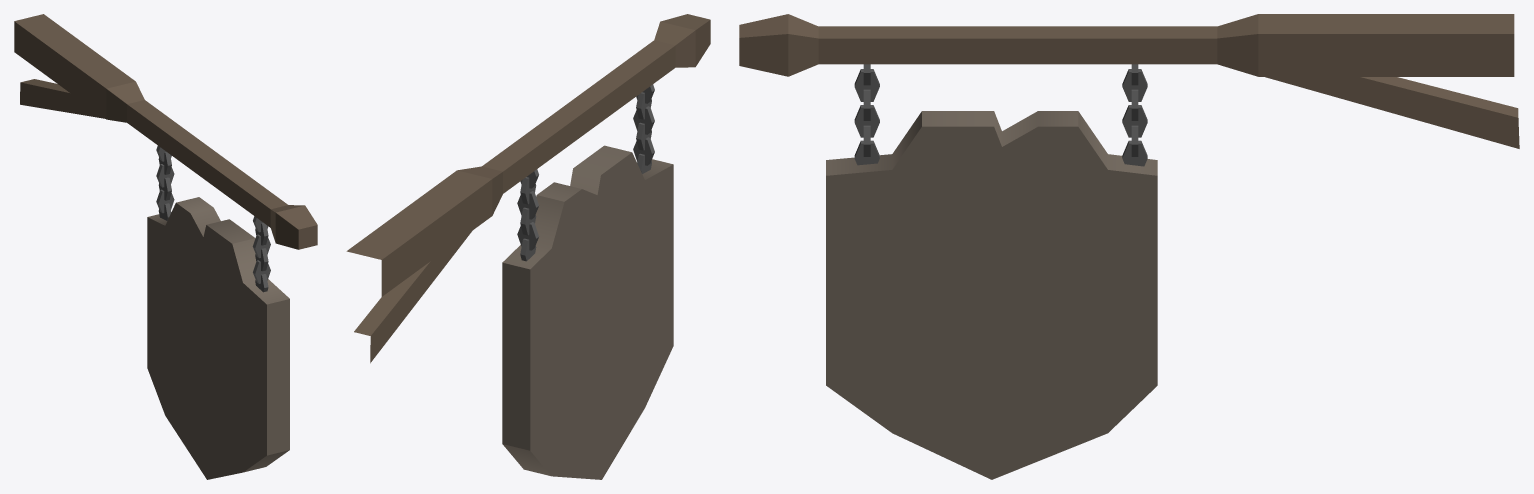
File: SM_Prop_Sign_Attachment_01.glb
The picture shows the model from 3 angles, left to right: view 1: azimuth 30°, elevation 25°; view 2: azimuth 150°, elevation 25°; view 3: azimuth 270°, elevation 25°; orthographic projection. The views are drawn at different scales.
Visible parts, largest first — view 1: SM_Prop_Sign_Attachment_01; view 2: SM_Prop_Sign_Attachment_01; view 3: SM_Prop_Sign_Attachment_01.
Part boxes in pixels (bbox=[...]): SM_Prop_Sign_Attachment_01: bbox=[14, 14, 317, 479]; SM_Prop_Sign_Attachment_01: bbox=[346, 14, 710, 479]; SM_Prop_Sign_Attachment_01: bbox=[739, 14, 1519, 479].
Size of the model in its own units: 0.0013 by 0.0136 by 0.0215.
